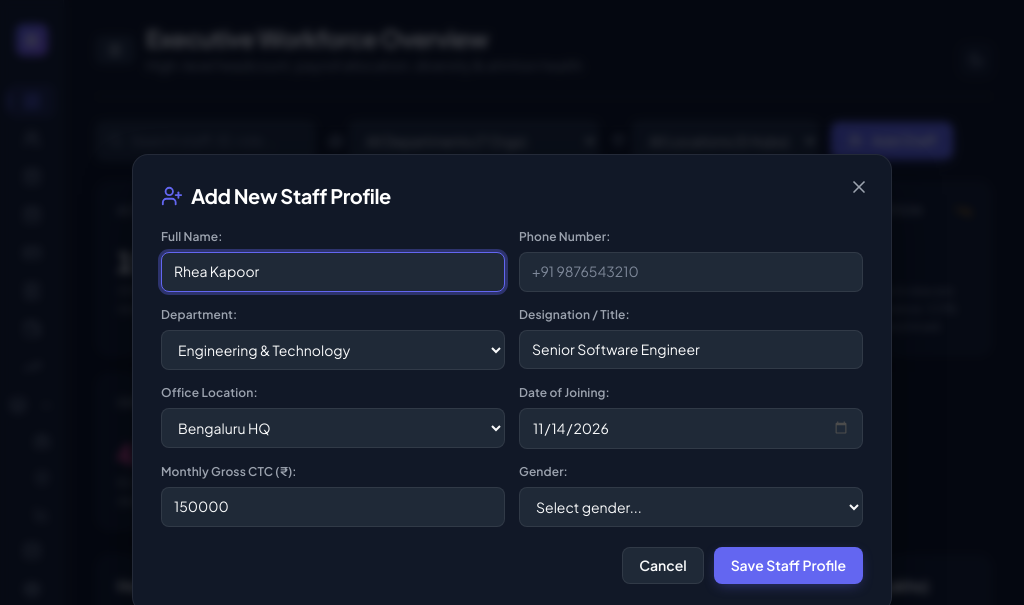
Scenario: App destructive and confirmational actions › resets only once the answer is yes, and says so inline
The image size is (1024, 605).
Earlier steps of the test are not shown.
Select "Female" in the dropdown labelled "Gender:" at {"x": 691, "y": 508}, box [519,488,863,528]
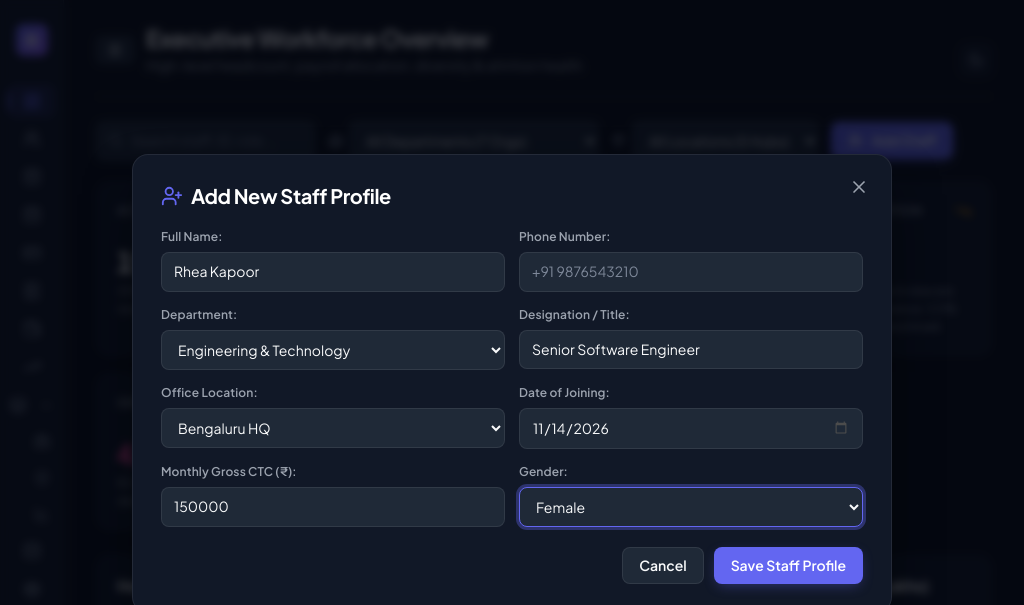
Click the button "Save Staff Profile" at {"x": 788, "y": 566}, box [714,548,863,584]
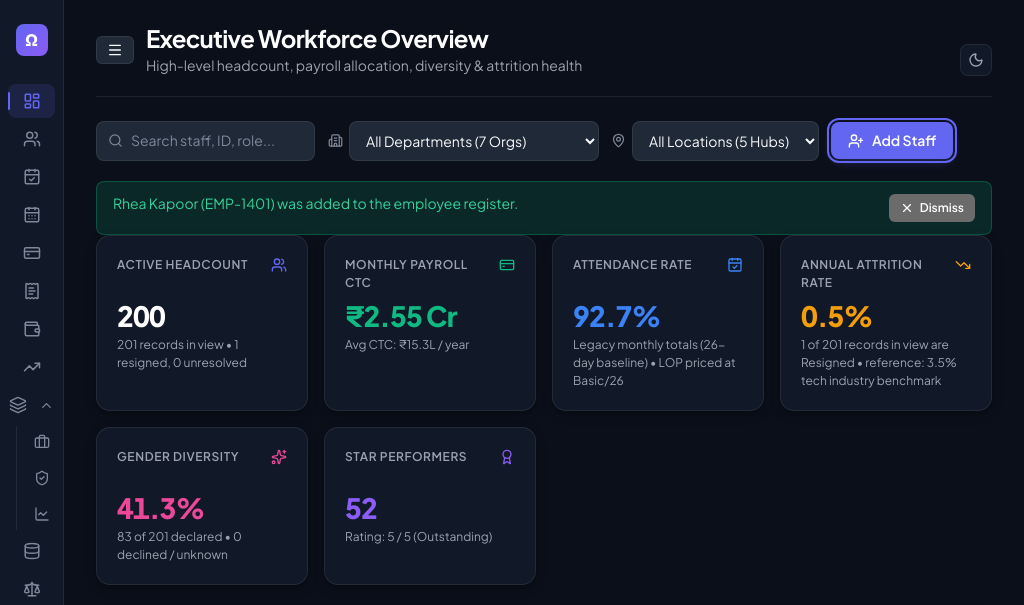
Check: the message "Rhea Kapoor (EMP-1401) was added to the employee register. Dismiss" is shown, box [96,181,992,235]
Click the button with aria-label "Dismiss this message" at {"x": 932, "y": 208}, box [889,194,975,222]
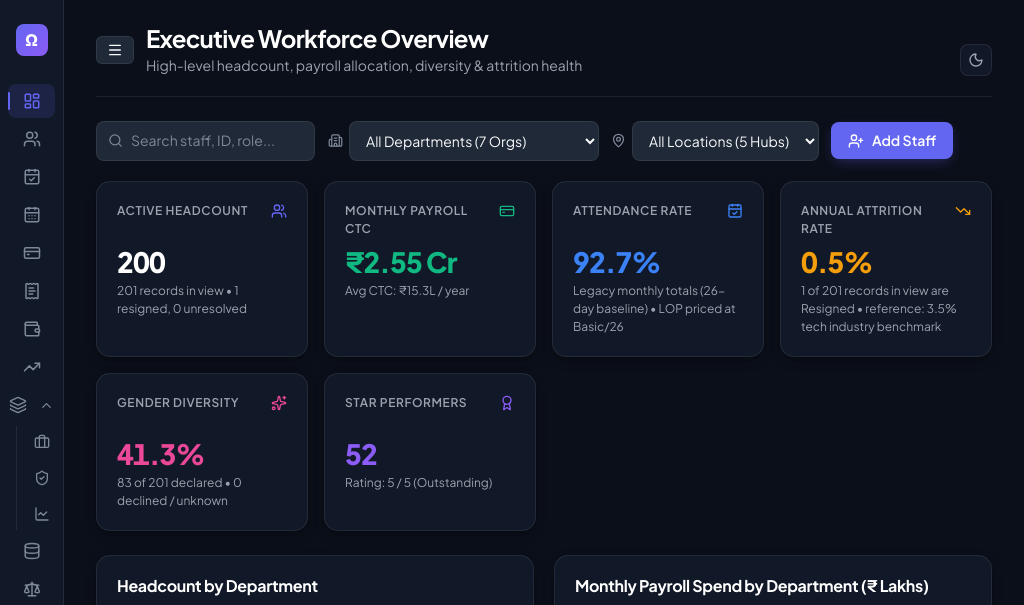
Click the button named "Admin & Settings" at {"x": 32, "y": 551}, box [8,534,55,568]
(page scrolled)
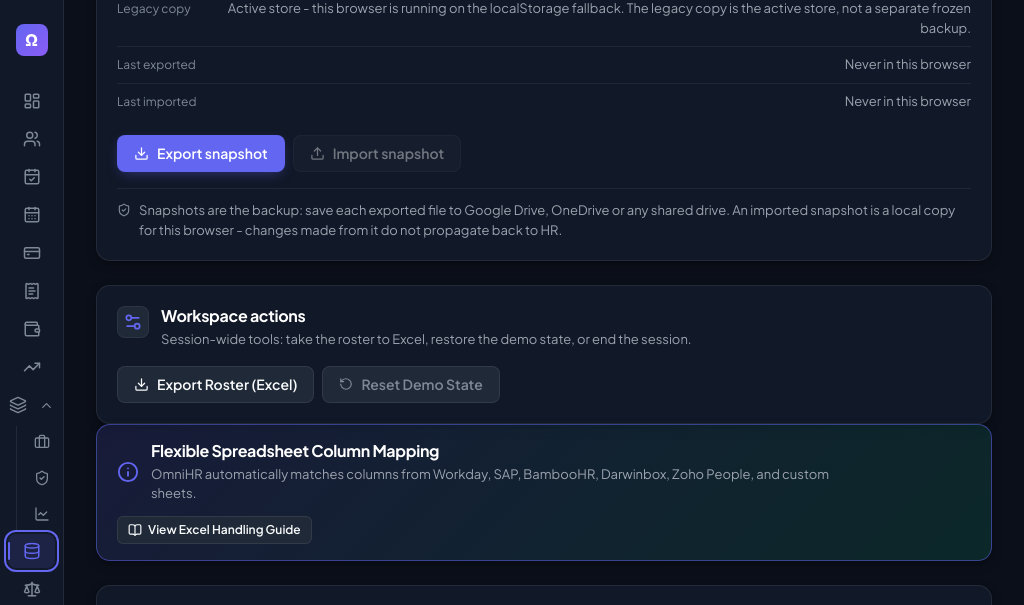
Click the button "Reset Demo State" at {"x": 411, "y": 384}, box [322,366,500,403]
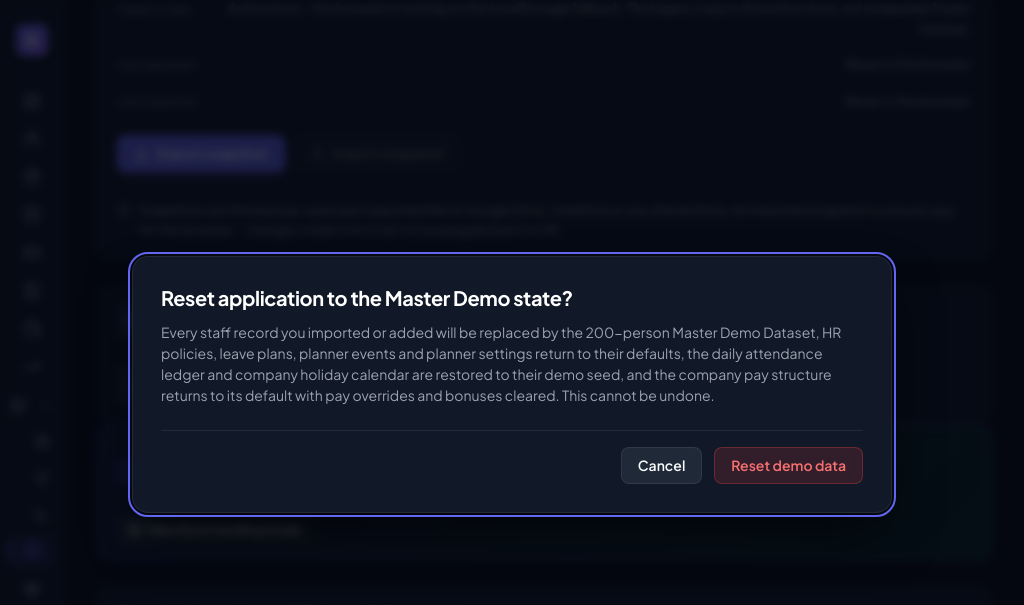
Click the button "Reset demo data" at {"x": 789, "y": 465}, box [714,446,863,483]
(page scrolled)
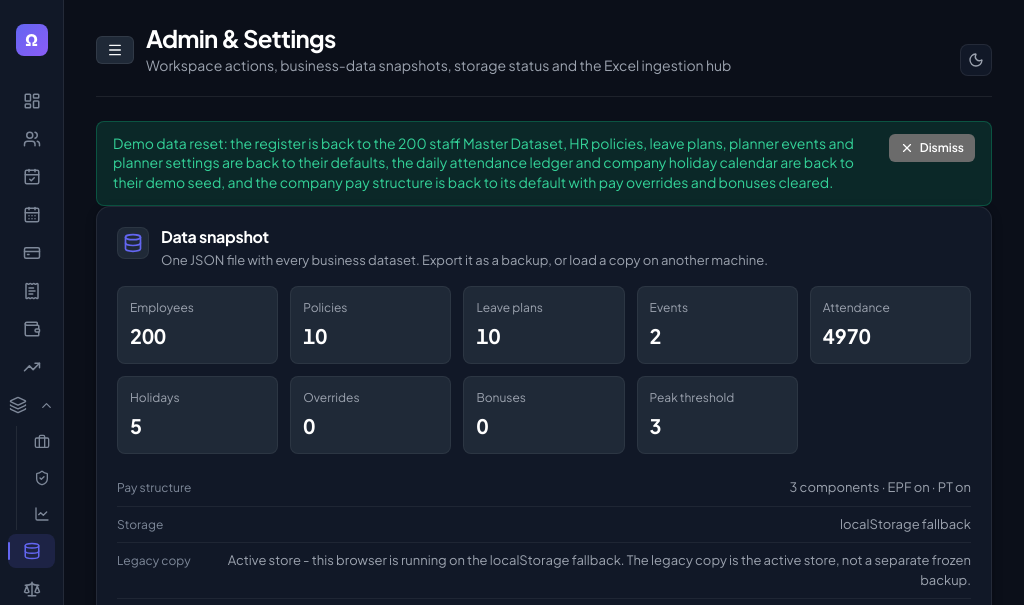
Check: the dialog is gone
Check: the message shows "Demo data reset", box [113,134,854,191]
